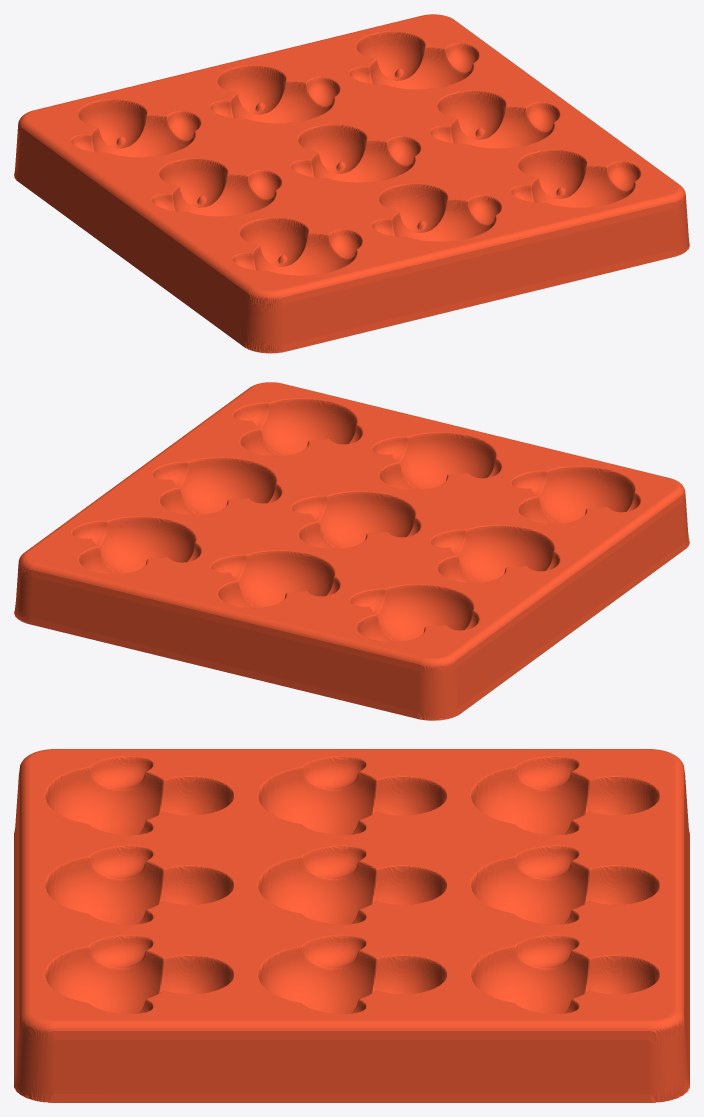
Rendered from mold.glb.
3 views of the same model, one above another, from view 1: azimuth 30°, elevation 25°; view 2: azimuth 150°, elevation 25°; view 3: azimuth 270°, elevation 25° (orthographic). The views are drawn at different scales.
Visible parts, largest first — view 1: geometry_0; view 2: geometry_0; view 3: geometry_0.
Part boxes in pixels (x1=…): geometry_0: x1=14, y1=14, x2=689, y2=353; geometry_0: x1=14, y1=382, x2=689, y2=720; geometry_0: x1=14, y1=749, x2=689, y2=1102.
Bounding box in the file's own units: 0.1483 × 0.0184 × 0.1491.
